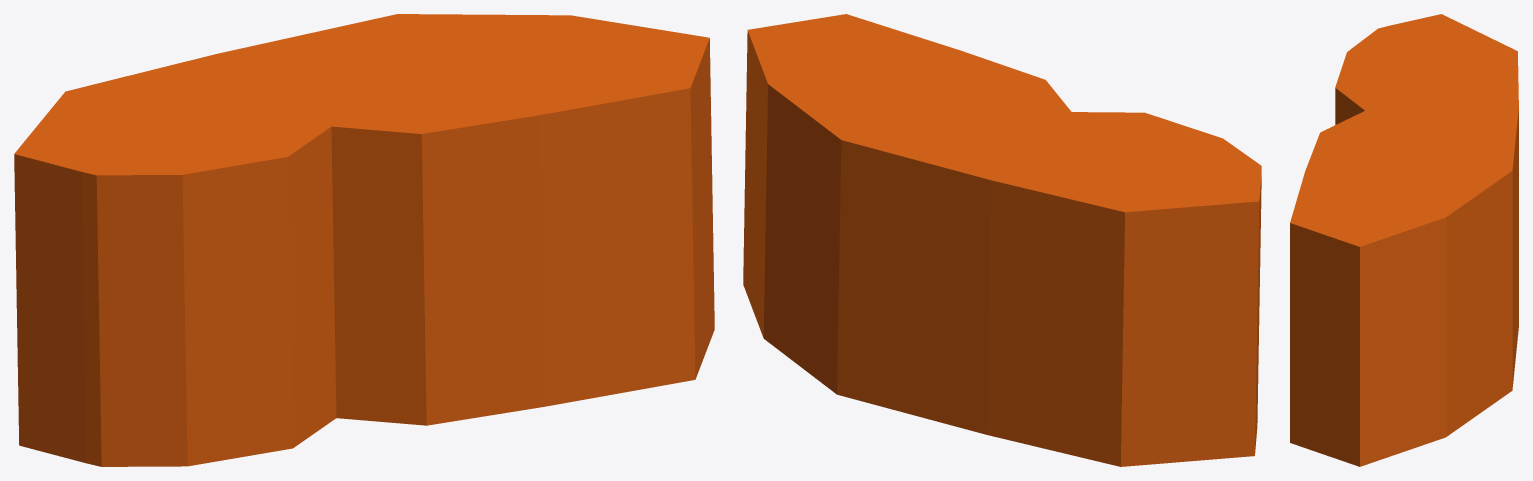
Rendered from stone13.fbx.
3 views of the same model, side by side, from view 1: azimuth 30°, elevation 25°; view 2: azimuth 150°, elevation 25°; view 3: azimuth 270°, elevation 25° (orthographic). The views are drawn at different scales.
Visible parts, largest first — view 1: Vert.001; view 2: Vert.001; view 3: Vert.001.
Part boxes in pixels (x1=…): Vert.001: x1=14, y1=14, x2=714, y2=466; Vert.001: x1=743, y1=14, x2=1261, y2=466; Vert.001: x1=1290, y1=14, x2=1518, y2=466.
Size of the model in its own units: 670 by 290 by 276.
